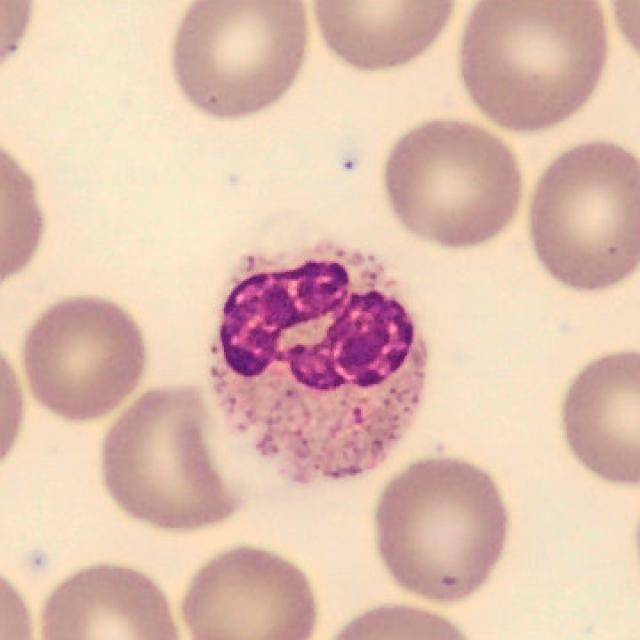Neutrofilo segmentado: (212, 244, 425, 480)
